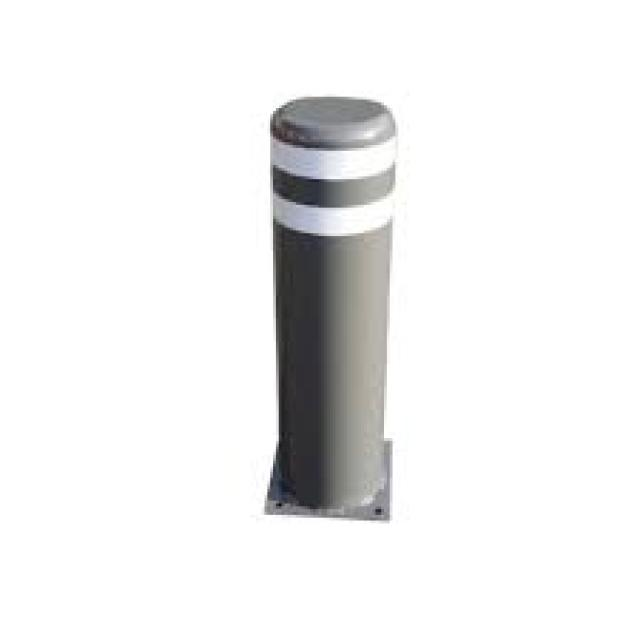bollard: (229, 60, 413, 548)
